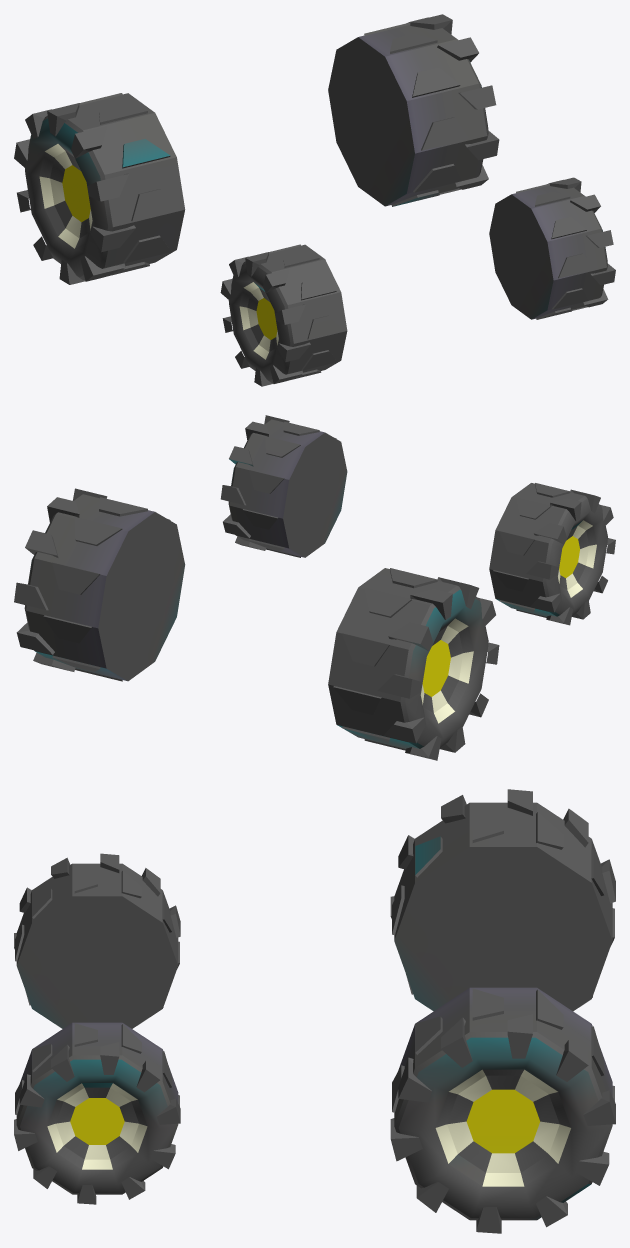
Rendered from TankWheel02C01.gltf.
The picture shows the model from 3 angles, top to bottom: view 1: azimuth 30°, elevation 25°; view 2: azimuth 150°, elevation 25°; view 3: azimuth 270°, elevation 25°; orthographic projection. The views are drawn at different scales.
Visible parts, largest first — view 1: TankWheel02C01; view 2: TankWheel02C01; view 3: TankWheel02C01.
Boxes of the visible parts, x1,y1,x2,y2 form: TankWheel02C01: (14, 14, 615, 386); TankWheel02C01: (14, 415, 615, 760); TankWheel02C01: (14, 789, 615, 1233).
Size of the model in its own units: 0.2574 by 0.1 by 0.2701.
